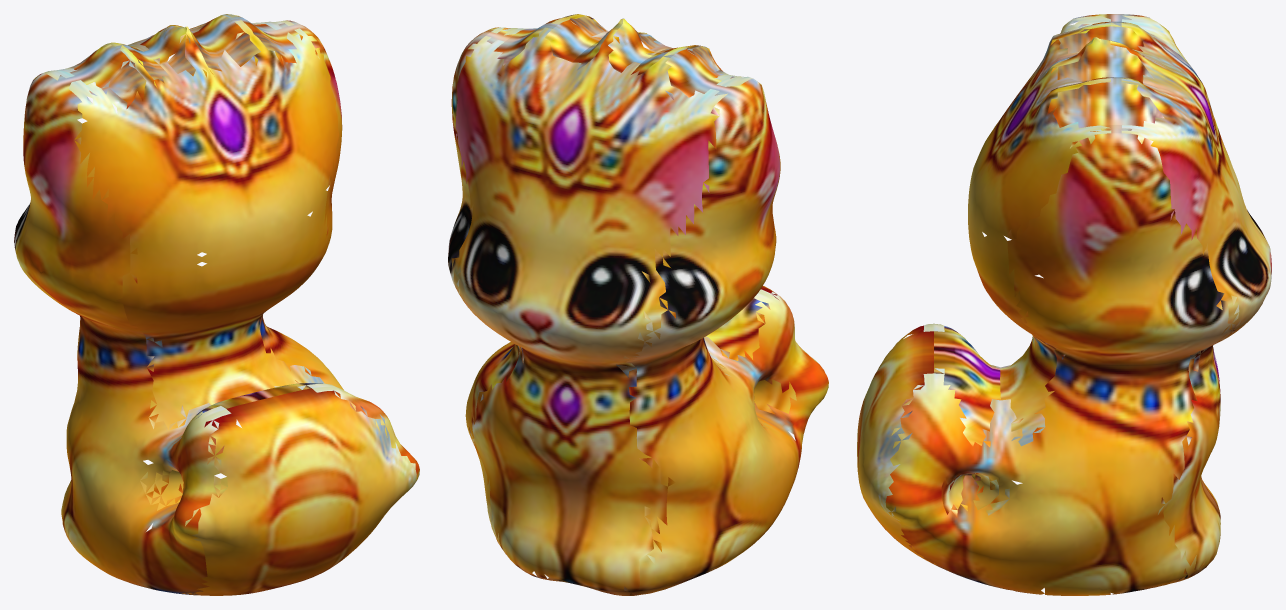
The model's file is Pharaon.glb.
3 views of the same model, side by side, from view 1: azimuth 30°, elevation 25°; view 2: azimuth 150°, elevation 25°; view 3: azimuth 270°, elevation 25° (orthographic). The views are drawn at different scales.
Visible parts, largest first — view 1: Pharaon; view 2: Pharaon; view 3: Pharaon.
Boxes of the visible parts, x1,y1,x2,y2 form: Pharaon: [14, 14, 419, 595]; Pharaon: [448, 14, 828, 595]; Pharaon: [857, 14, 1271, 595].
Size of the model in its own units: 2.39 by 4.06 by 2.92.
1 material, 1 textured.
